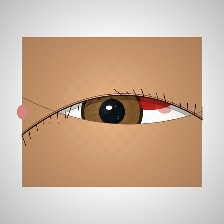hemorrhage_spot: (114, 71, 185, 127)
